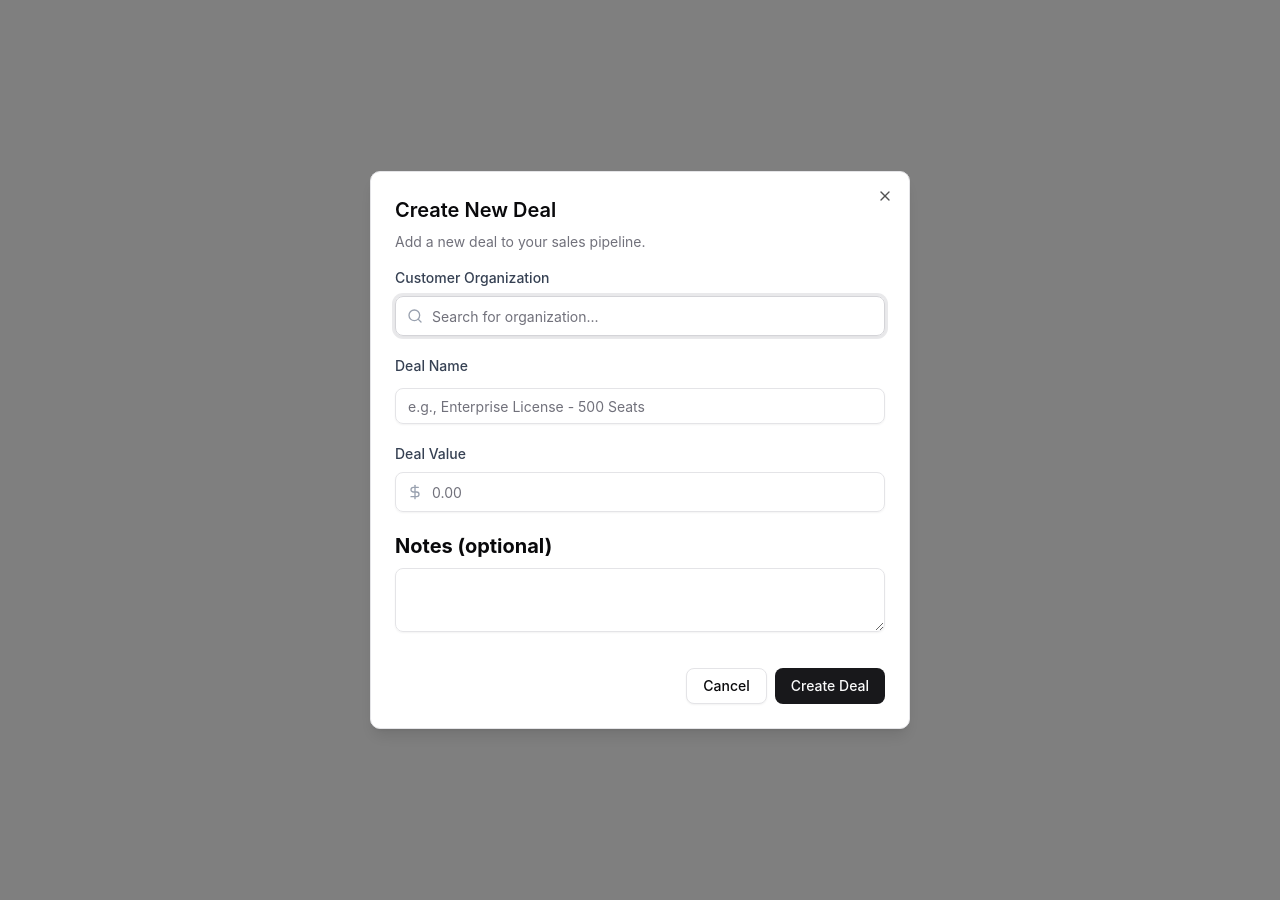
CreateDealDialog › Organization Search › should filter organizations when typing in search
In the field with placeholder "Search for organization...": {"x": 640, "y": 316} [395,296,885,336], type "Acme"
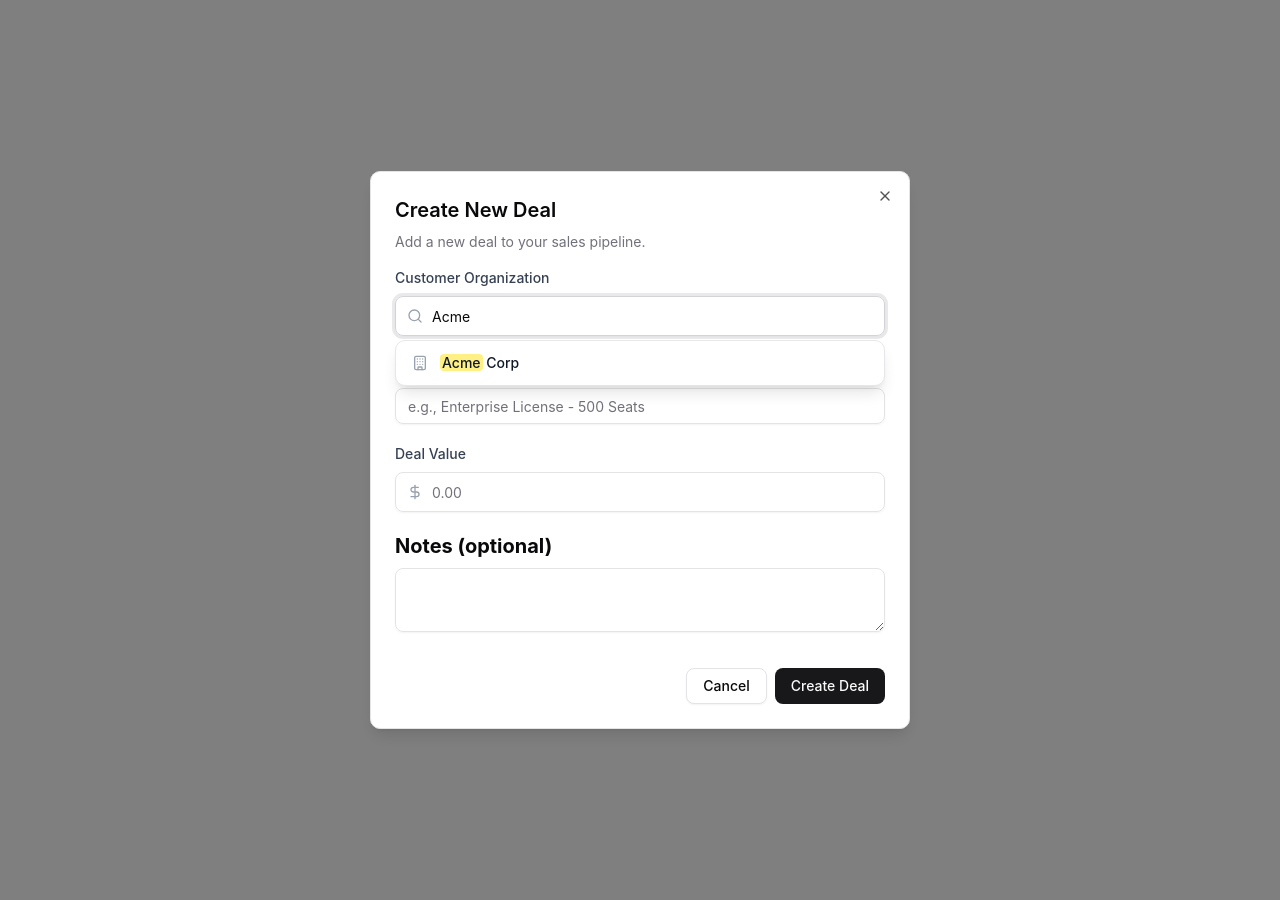
Now the button "Acme Corp" is shown, box [396,341,884,385]
